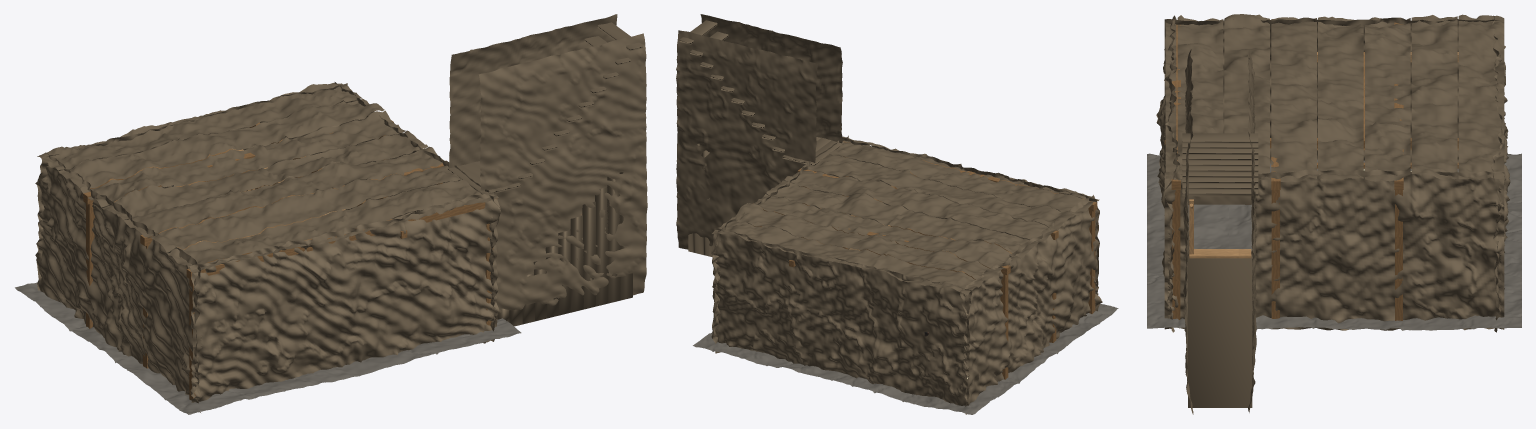
File: 座敷牢_整理済み.glb
3 renders of one model, left to right at view 1: azimuth 30°, elevation 25°; view 2: azimuth 150°, elevation 25°; view 3: azimuth 270°, elevation 25°, orthographic. The views are drawn at different scales.
Parts seen in each view (by area): view 1: 階段, 天井, 壁_南, 壁_西, 床, 壁_北, 梁(天井), 壁_東, 柱_西; view 2: 天井, 壁_北, 階段, 壁_西, 床, 壁_南, 柱_西, 壁_東, 梁(天井); view 3: 天井, 壁_東, 階段, 床, 柱_東, 壁_西, 壁_南, 壁_北, 梁(天井).
Boxes of the visible parts, x1=… form: 階段: x1=447, y1=14, x2=647, y2=326; 天井: x1=37, y1=83, x2=498, y2=272; 壁_南: x1=189, y1=192, x2=501, y2=412; 壁_西: x1=36, y1=156, x2=202, y2=412; 床: x1=15, y1=282, x2=521, y2=414; 壁_北: x1=35, y1=83, x2=347, y2=291; 梁(天井): x1=83, y1=120, x2=497, y2=279; 壁_東: x1=334, y1=82, x2=500, y2=341; 柱_西: x1=86, y1=203, x2=194, y2=399; 天井: x1=712, y1=136, x2=1099, y2=295; 壁_北: x1=711, y1=228, x2=971, y2=414; 階段: x1=676, y1=14, x2=843, y2=257; 壁_西: x1=961, y1=195, x2=1099, y2=414; 床: x1=693, y1=304, x2=1118, y2=414; 壁_南: x1=846, y1=136, x2=1102, y2=311; 柱_西: x1=1000, y1=210, x2=1095, y2=379; 壁_東: x1=712, y1=135, x2=848, y2=353; 梁(天井): x1=753, y1=141, x2=1097, y2=274; 天井: x1=1165, y1=14, x2=1504, y2=181; 壁_東: x1=1163, y1=169, x2=1504, y2=331; 階段: x1=1182, y1=49, x2=1258, y2=414; 床: x1=1147, y1=153, x2=1521, y2=330; 柱_東: x1=1172, y1=190, x2=1402, y2=320; 壁_西: x1=1159, y1=15, x2=1507, y2=163; 壁_南: x1=1156, y1=16, x2=1180, y2=332; 壁_北: x1=1491, y1=19, x2=1510, y2=332; 梁(天井): x1=1164, y1=22, x2=1458, y2=189.
Size of the model in its own units: 10.12 by 5.26 by 6.4.
Materials: 18 (18 with a texture image).
